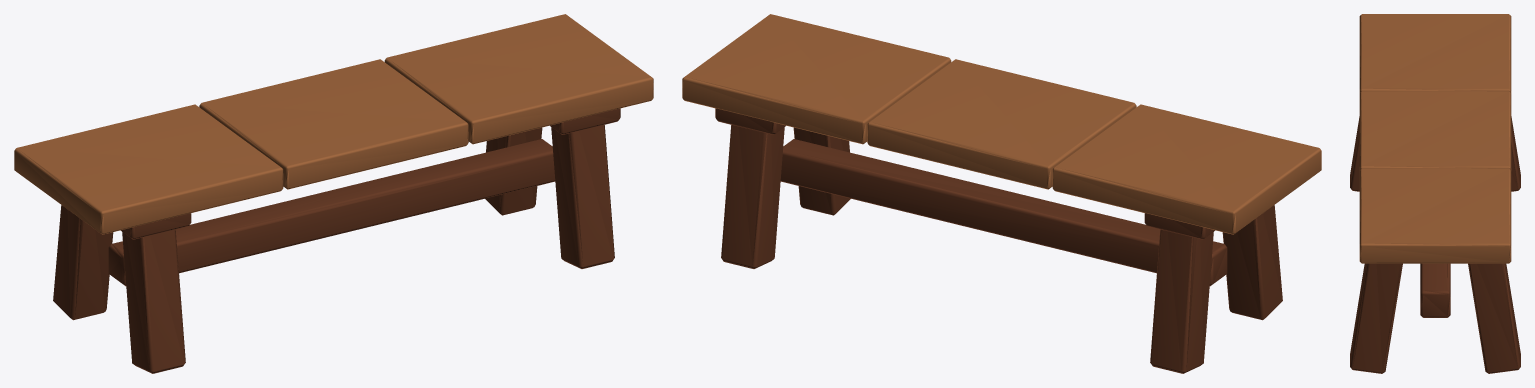
Rendered from wooden_bench.fbx.
3 renders of one model, left to right at view 1: azimuth 30°, elevation 25°; view 2: azimuth 150°, elevation 25°; view 3: azimuth 270°, elevation 25°, orthographic. The views are drawn at different scales.
Visible parts, largest first — view 1: wooden_bench; view 2: wooden_bench; view 3: wooden_bench.
Part boxes in pixels (box(x1,y1,x2,y2)): wooden_bench: box(14, 14, 653, 373); wooden_bench: box(682, 14, 1321, 373); wooden_bench: box(1350, 14, 1520, 373).
Size of the model in its own units: 144 by 43.57 by 45.17.
